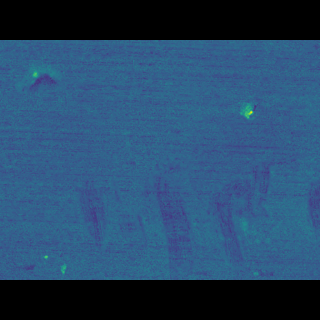Loch: (65, 153, 320, 244)
